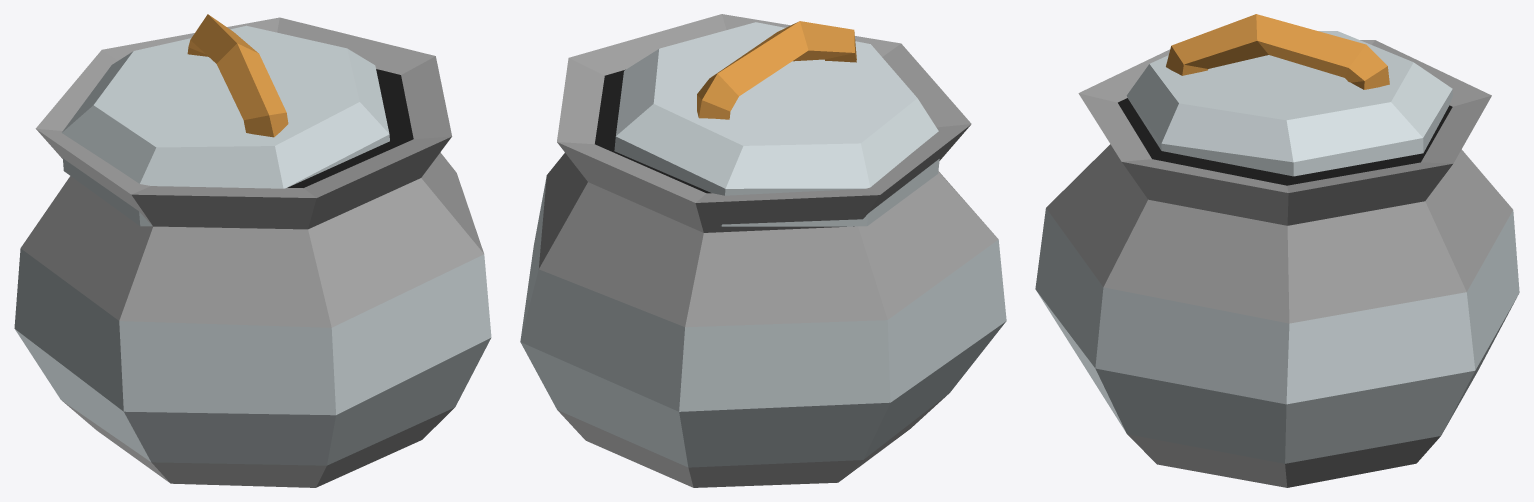
The model's file is pot.glb.
The picture shows the model from 3 angles, left to right: view 1: azimuth 30°, elevation 25°; view 2: azimuth 150°, elevation 25°; view 3: azimuth 270°, elevation 25°; orthographic projection.
Visible parts, largest first — view 1: Pot; view 2: Pot; view 3: Pot.
Boxes of the visible parts, <box> form: Pot: <box>14,14,491,487</box>; Pot: <box>520,14,1006,487</box>; Pot: <box>1035,14,1519,487</box>.
Bounding box in the file's own units: 0.3439 × 0.3219 × 0.3568.
